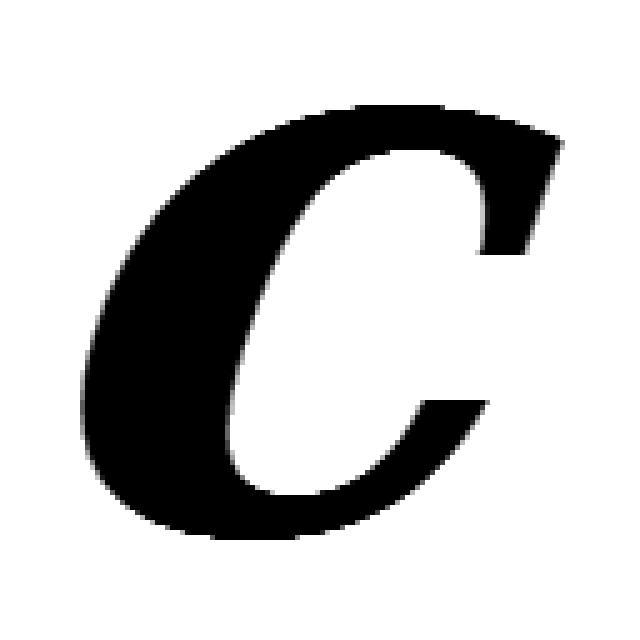C: (80, 105, 565, 540)
